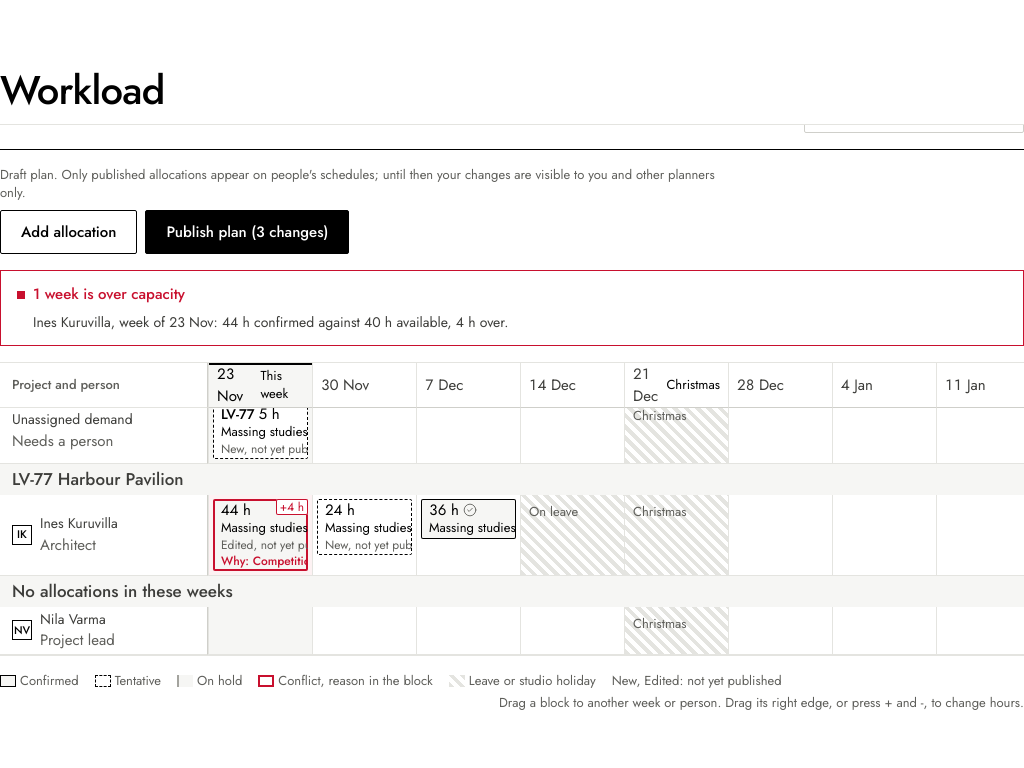
Test case: Workload planner in live mode › removes an allocation from its sheet
Expected: the table named "Resource planner" is shown, [0,362,1023,656]
What coordinates should you click on to do the following:
click the button "36 h Massing studies"
I would click on:
 (468, 518)
Its box is [421,498,516,538].
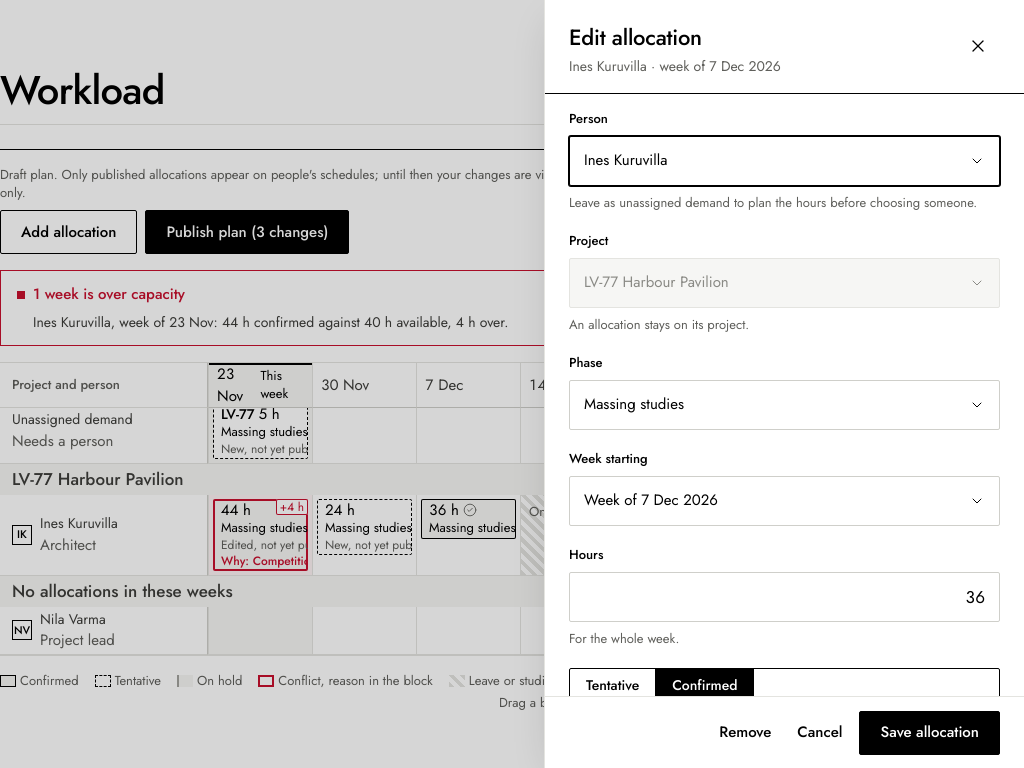
What coordinates should you click on to do the following:
click the button "Remove"
I would click on:
 (745, 732)
Its box is [710,710,780,754].
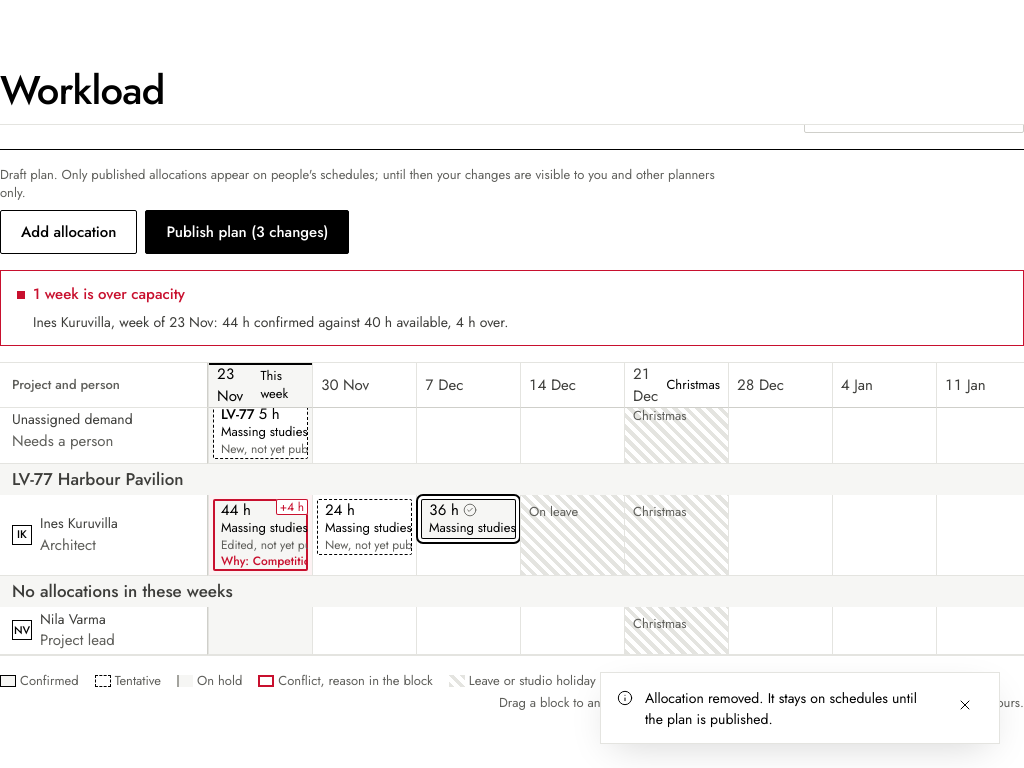
Result: the text "Allocation removed. It stays on schedules until the plan is published." is shown at [645,687,935,729]
